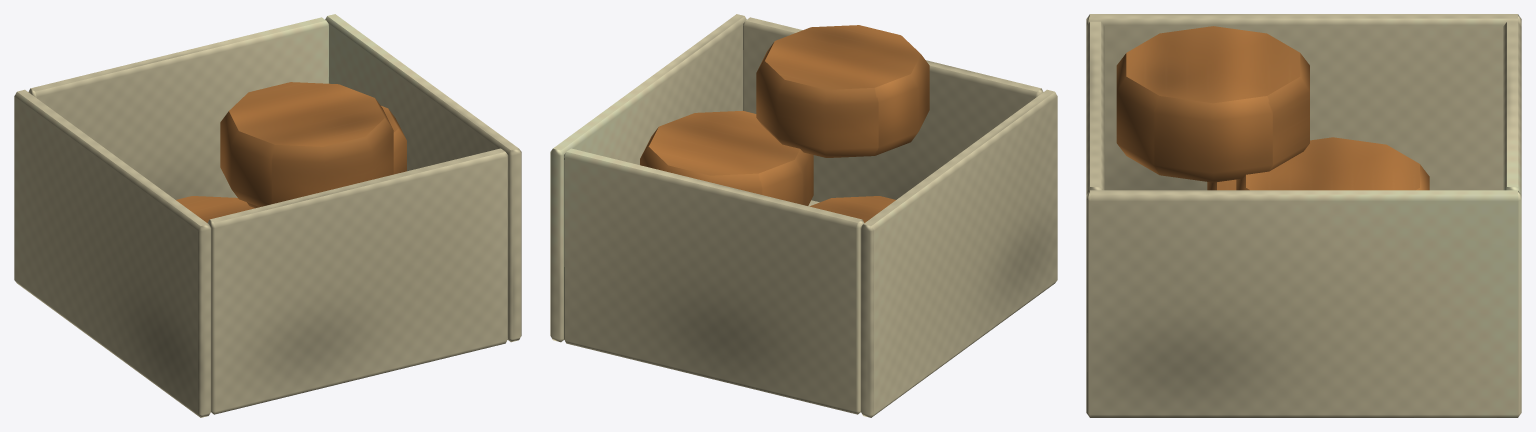
Rendered from Hold_Cookie.fbx.
The picture shows the model from 3 angles, left to right: view 1: azimuth 30°, elevation 25°; view 2: azimuth 150°, elevation 25°; view 3: azimuth 270°, elevation 25°; orthographic projection. The views are drawn at different scales.
Parts seen in each view (by area): view 1: Hold_Cookie; view 2: Hold_Cookie; view 3: Hold_Cookie.
Boxes of the visible parts, box(x1,y1,x2,y2) form: Hold_Cookie: box(14, 14, 521, 417); Hold_Cookie: box(550, 14, 1057, 417); Hold_Cookie: box(1086, 14, 1521, 417).
Bounding box in the file's own units: 0.12 × 0.08 × 0.12.
1 material, 1 textured.
